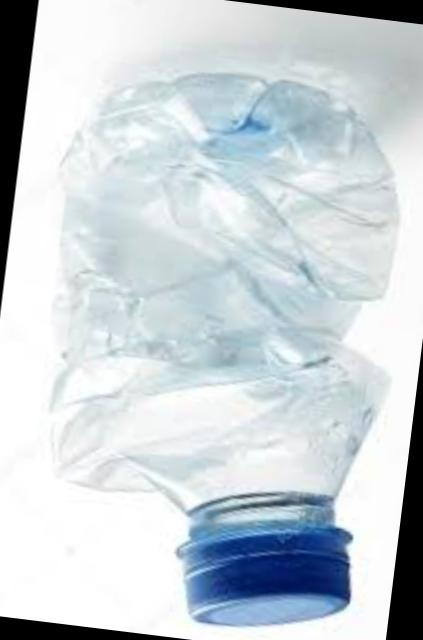plastic: (54, 78, 399, 628)
